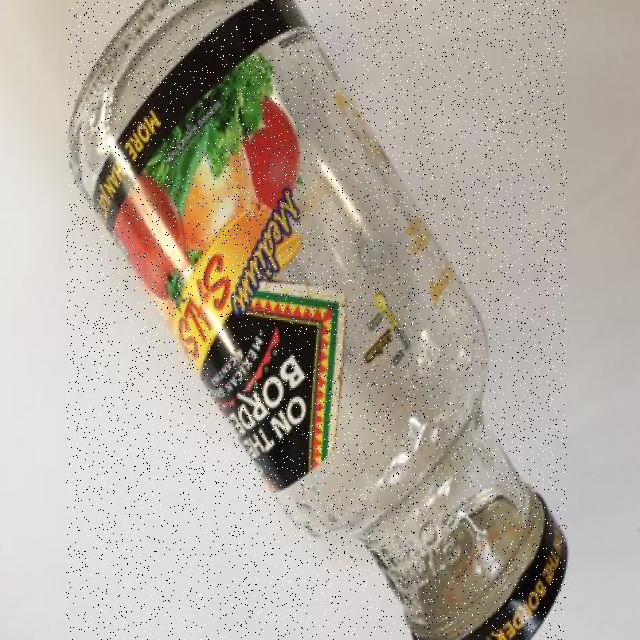glass: (66, 0, 567, 640)
